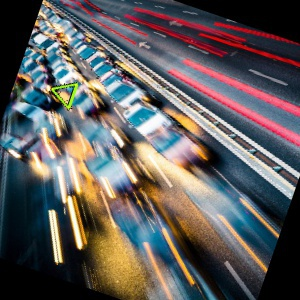triangle: (48, 81, 78, 110)
